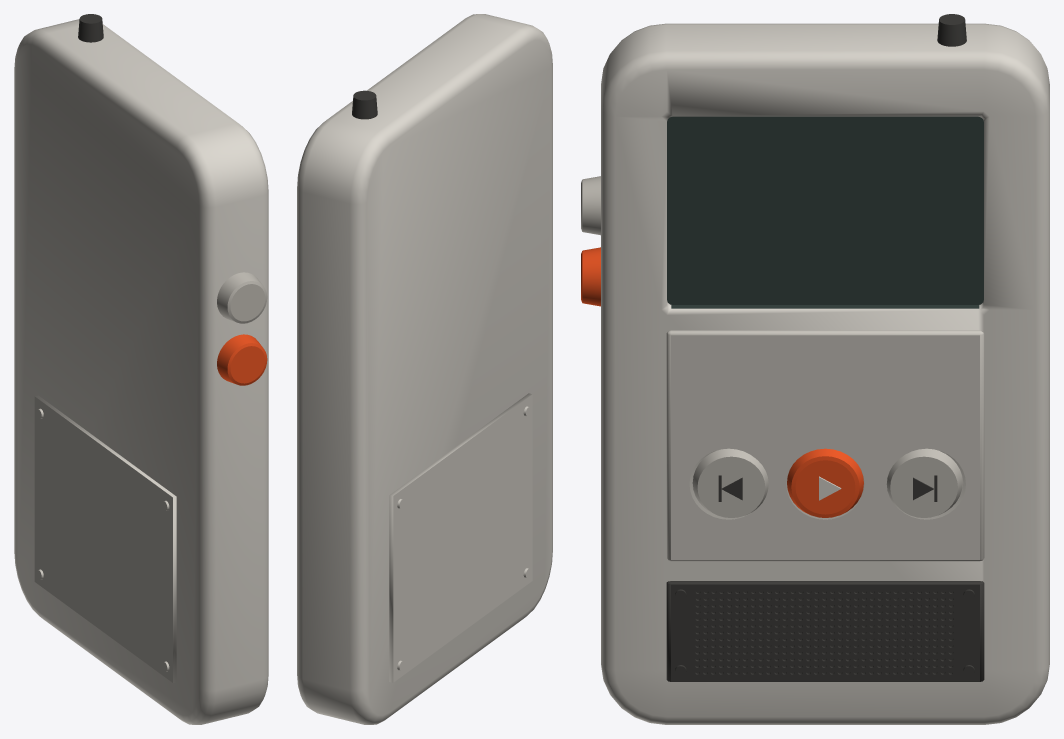
Rendered from flaneur.glb.
3 views of the same model, side by side, from view 1: azimuth 30°, elevation 25°; view 2: azimuth 150°, elevation 25°; view 3: azimuth 270°, elevation 25° (orthographic). The views are drawn at different scales.
Parts seen in each view (by area): view 1: Body; view 2: Body; view 3: Body, Screen, Play, Prev, Next.
Boxes of the visible parts, x1=… form: Body: x1=14, y1=14, x2=268, y2=724; Body: x1=297, y1=14, x2=552, y2=724; Body: x1=581, y1=14, x2=1049, y2=724; Screen: x1=667, y1=116, x2=983, y2=308; Play: x1=787, y1=448, x2=863, y2=517; Prev: x1=692, y1=448, x2=768, y2=517; Next: x1=886, y1=448, x2=962, y2=517.
Size of the model in its own units: 0.5017 by 3.41 by 2.09.
